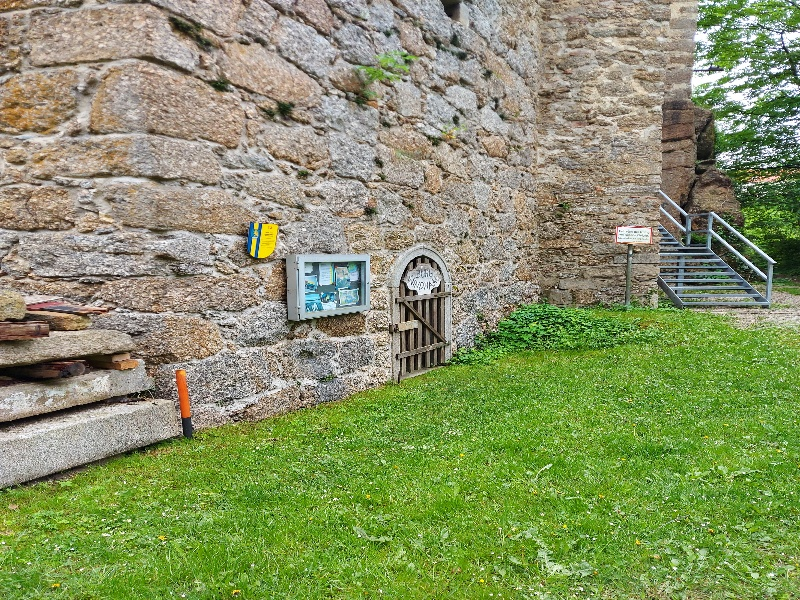dungeon: (374, 232, 465, 385)
